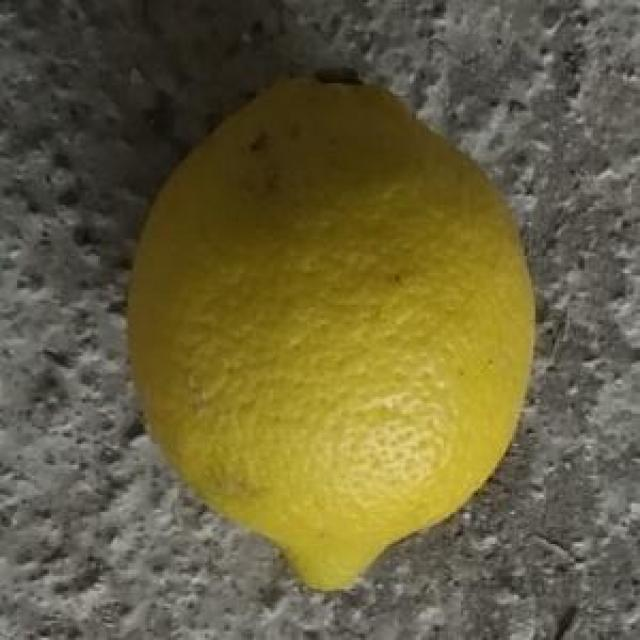lemon: (124, 67, 536, 590)
